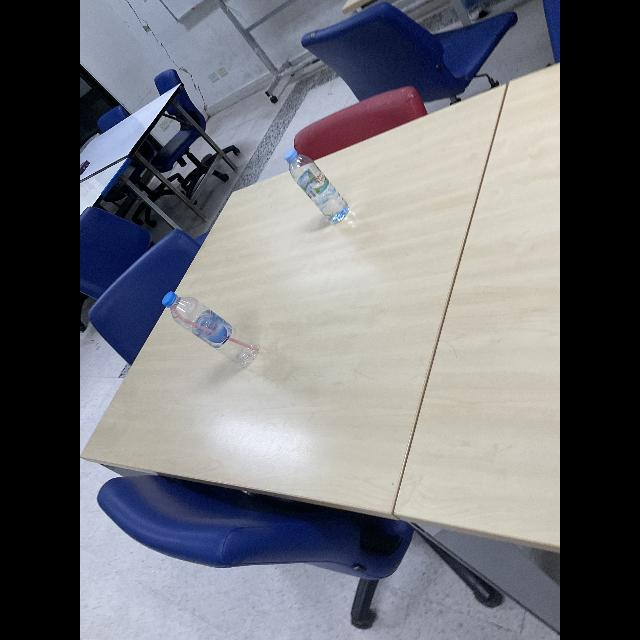plastic_bottle: (162, 291, 260, 367), (284, 147, 350, 225)
plastic_bottle_cap: (162, 290, 178, 306), (284, 147, 298, 163)
